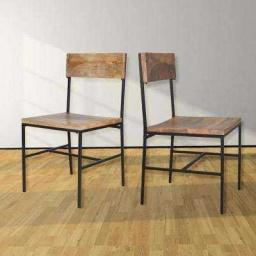Chair: (136, 52, 242, 208), (23, 54, 127, 208)
